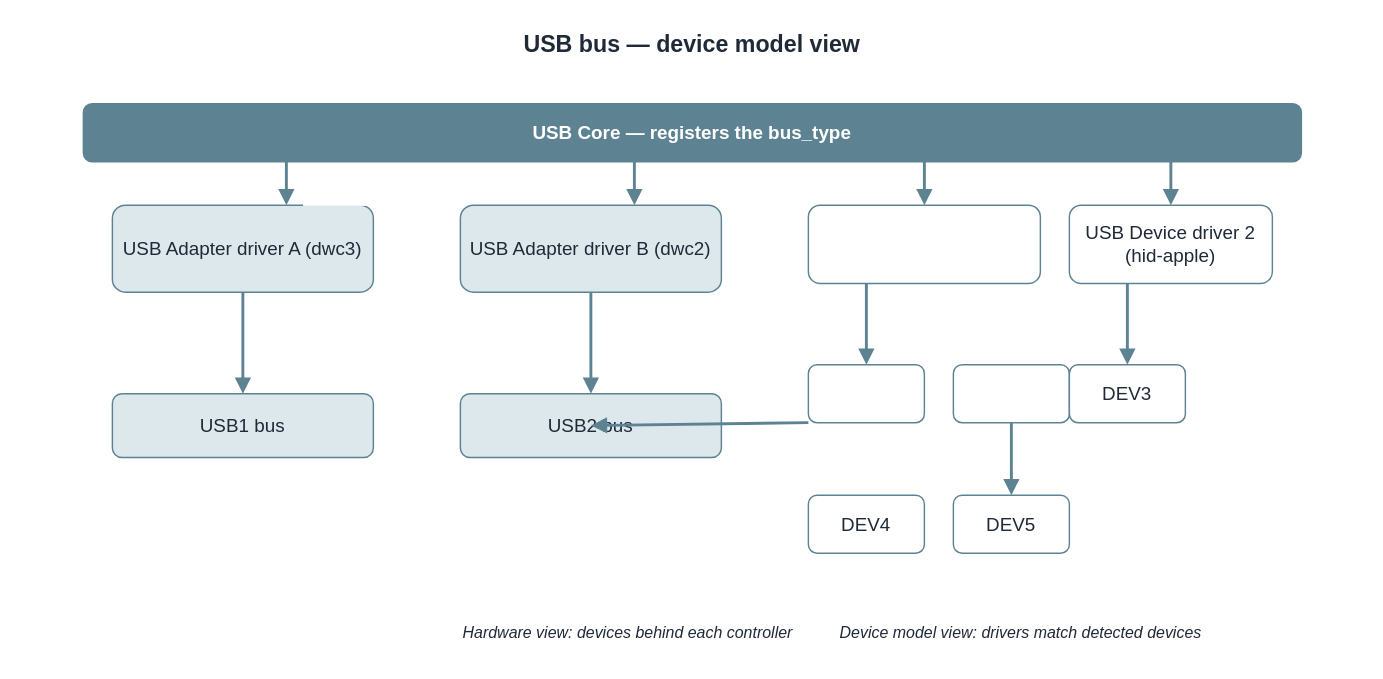
Image size: 1383x679. Some labels were removed from this diagram. Here are the shapes that lost their labels. From the top down, the box of each, then its label:
(302, 172, 414, 205): registers
(807, 204, 1040, 283): USB Device driver 1 (ftdi-sio)
(807, 363, 924, 423): DEV1
(952, 363, 1069, 423): DEV2
